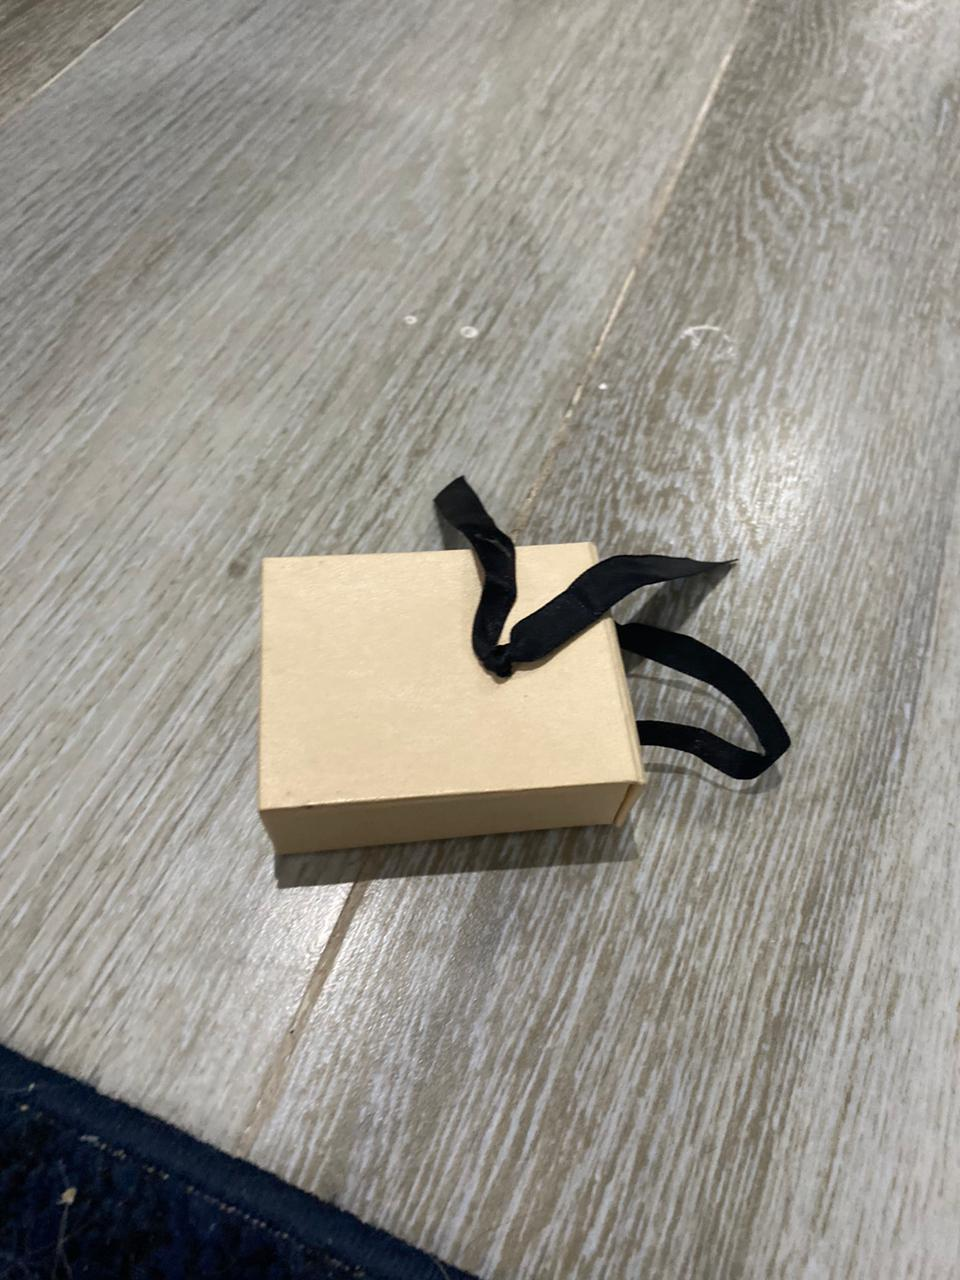Yellow Box: (253, 542, 658, 867)
